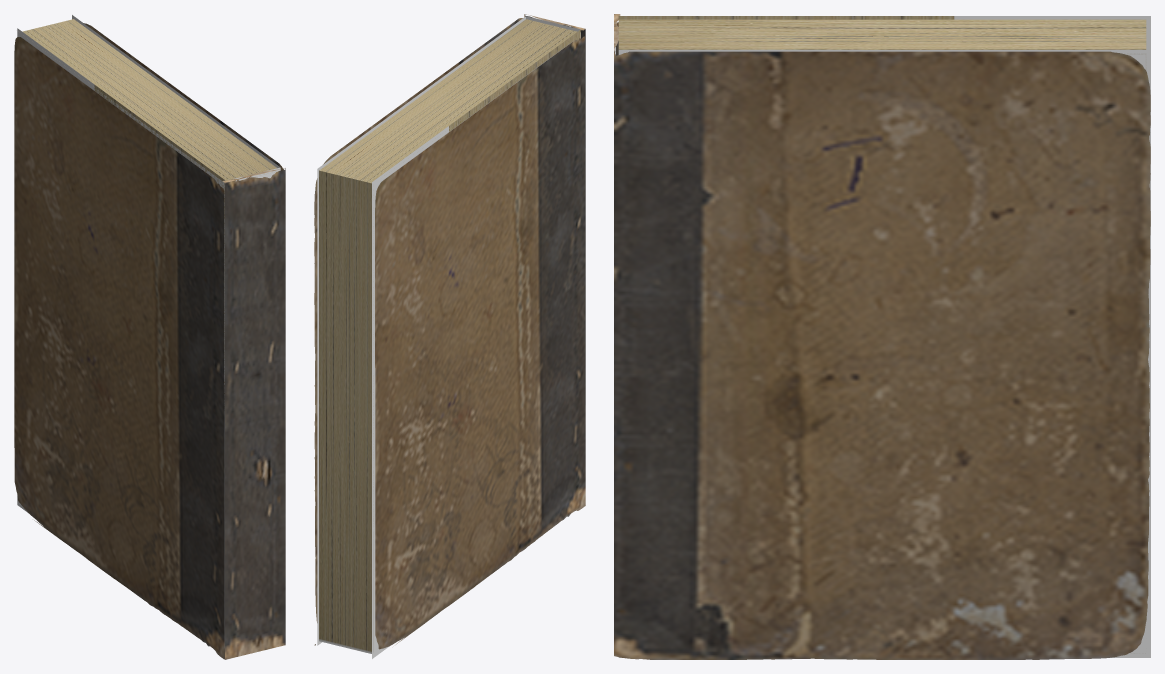
Rendered from libromarrone.fbx.
The picture shows the model from 3 angles, left to right: view 1: azimuth 30°, elevation 25°; view 2: azimuth 150°, elevation 25°; view 3: azimuth 270°, elevation 25°; orthographic projection. The views are drawn at different scales.
Visible parts, largest first — view 1: Cube.002; view 2: Cube.002; view 3: Cube.002.
Part boxes in pixels (bbox=[...]): Cube.002: bbox=[14, 15, 285, 659]; Cube.002: bbox=[314, 14, 585, 658]; Cube.002: bbox=[614, 14, 1150, 659].
Size of the model in its own units: 2 by 15 by 12.
Materials: 2 (2 with a texture image).
